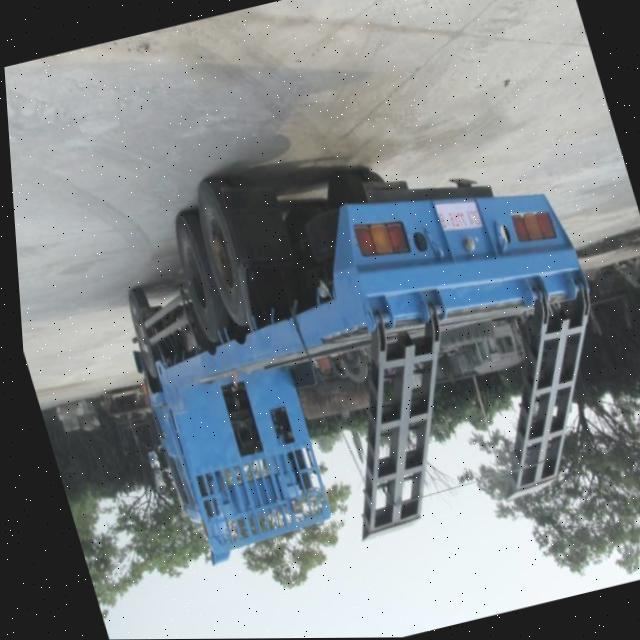truck: (73, 103, 640, 587)
